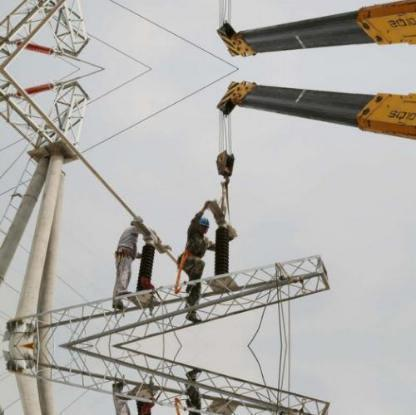helmet: (193, 213, 211, 229)
